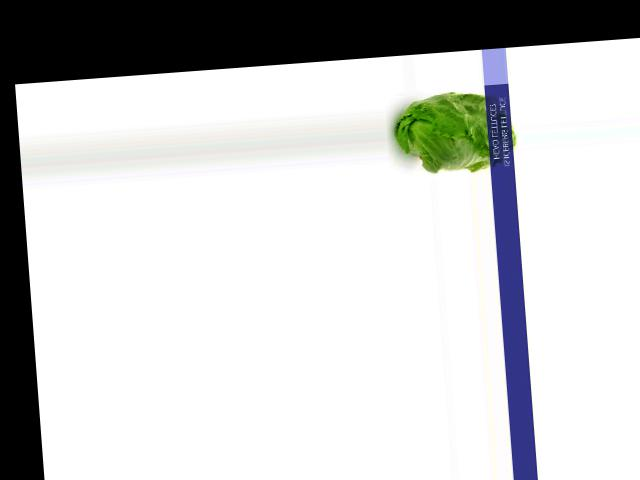lettuce: (387, 91, 518, 177)
